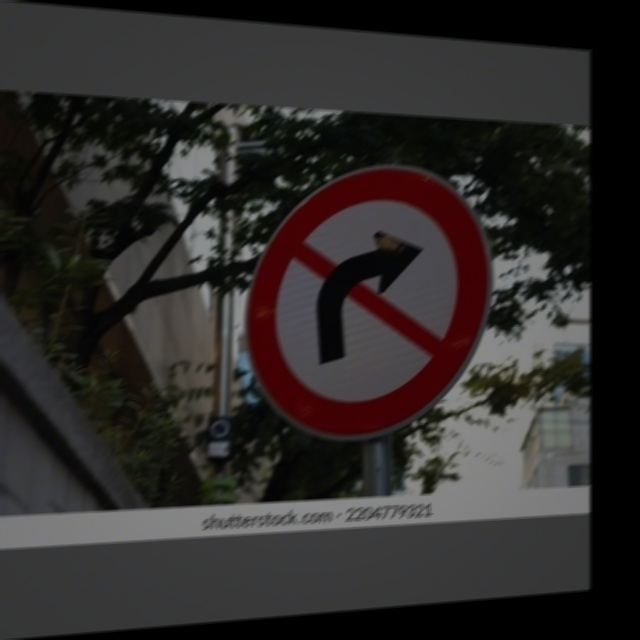Right_Turn_Prohibited: (241, 162, 493, 440)
